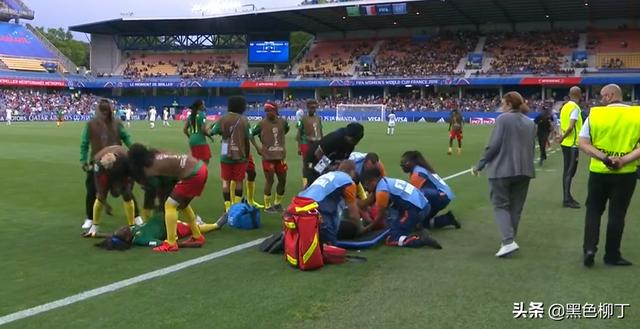10+: (1, 16, 640, 272)
down: (83, 195, 233, 259)
